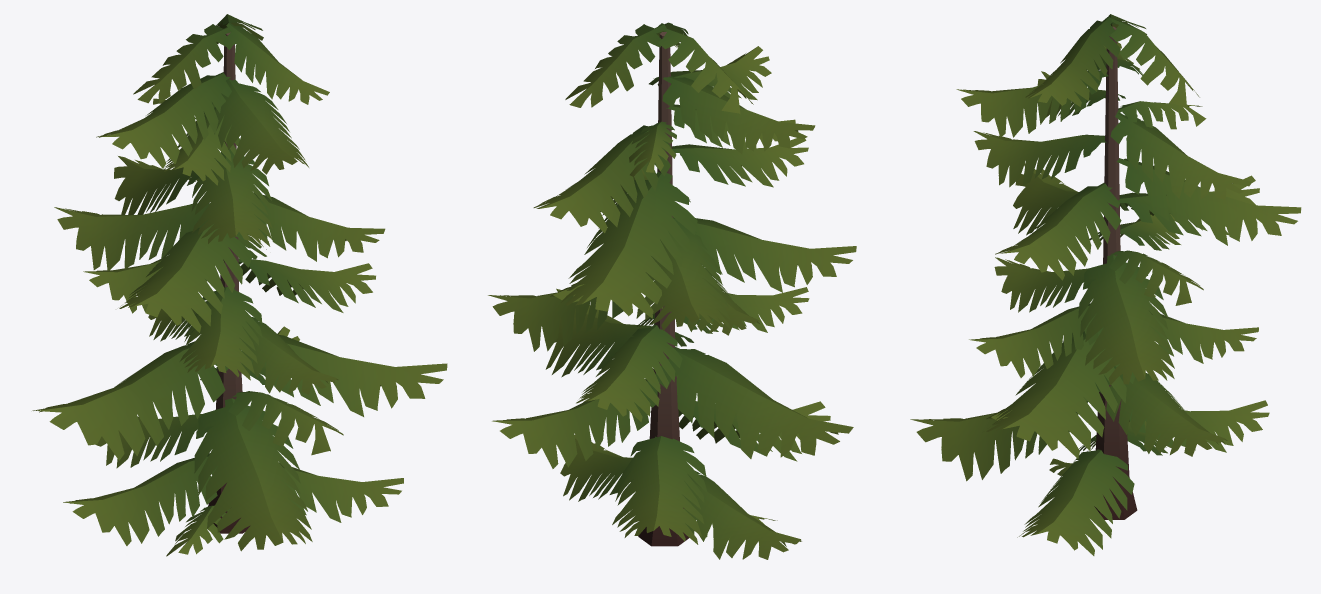
The model's file is DouglasFir3.fbx.
The picture shows the model from 3 angles, left to right: view 1: azimuth 30°, elevation 25°; view 2: azimuth 150°, elevation 25°; view 3: azimuth 270°, elevation 25°; orthographic projection. The views are drawn at different scales.
Visible parts, largest first — view 1: Cylinder.002; view 2: Cylinder.002; view 3: Cylinder.002.
Part boxes in pixels (x1,y1,x2,y2): Cylinder.002: (32, 14, 447, 556); Cylinder.002: (488, 22, 856, 559); Cylinder.002: (910, 14, 1301, 555).
Bounding box in the file's own units: 1657 × 2179 × 1579.
